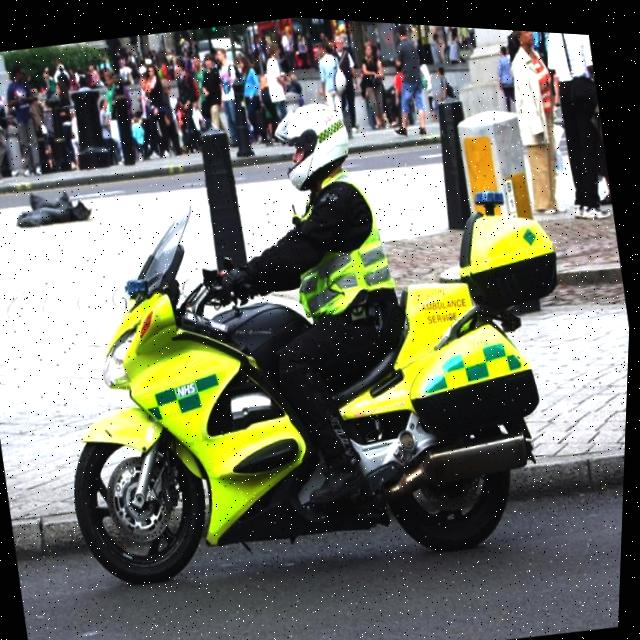motorcycle: (17, 128, 621, 634)
